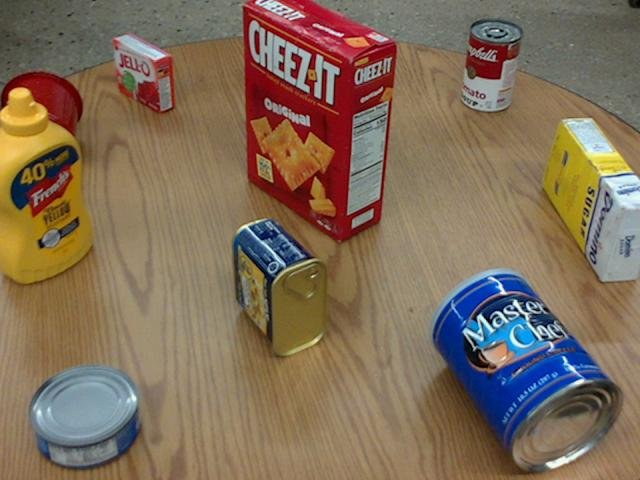cracker_box: (242, 0, 396, 238)
gelatin_box: (116, 33, 176, 112)
large_marker: (270, 0, 283, 61)
master_chef_can: (429, 267, 622, 470)
mug: (0, 70, 83, 170)
mustard_bottle: (0, 88, 93, 283)
potted_meat_can: (230, 218, 328, 356)
sugar_box: (543, 118, 639, 282)
tomato_soup_can: (461, 19, 522, 111)
tuna_fish_can: (29, 364, 140, 466)
